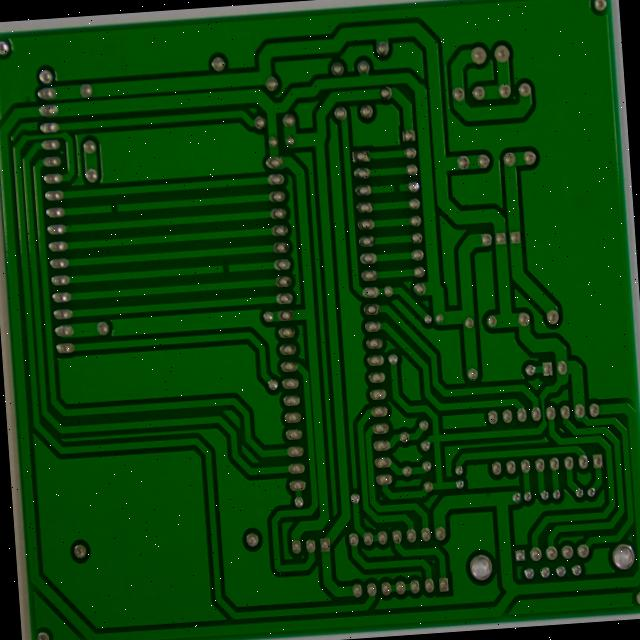open_circuit: (224, 267, 240, 288), (108, 205, 126, 223), (401, 187, 415, 201)
